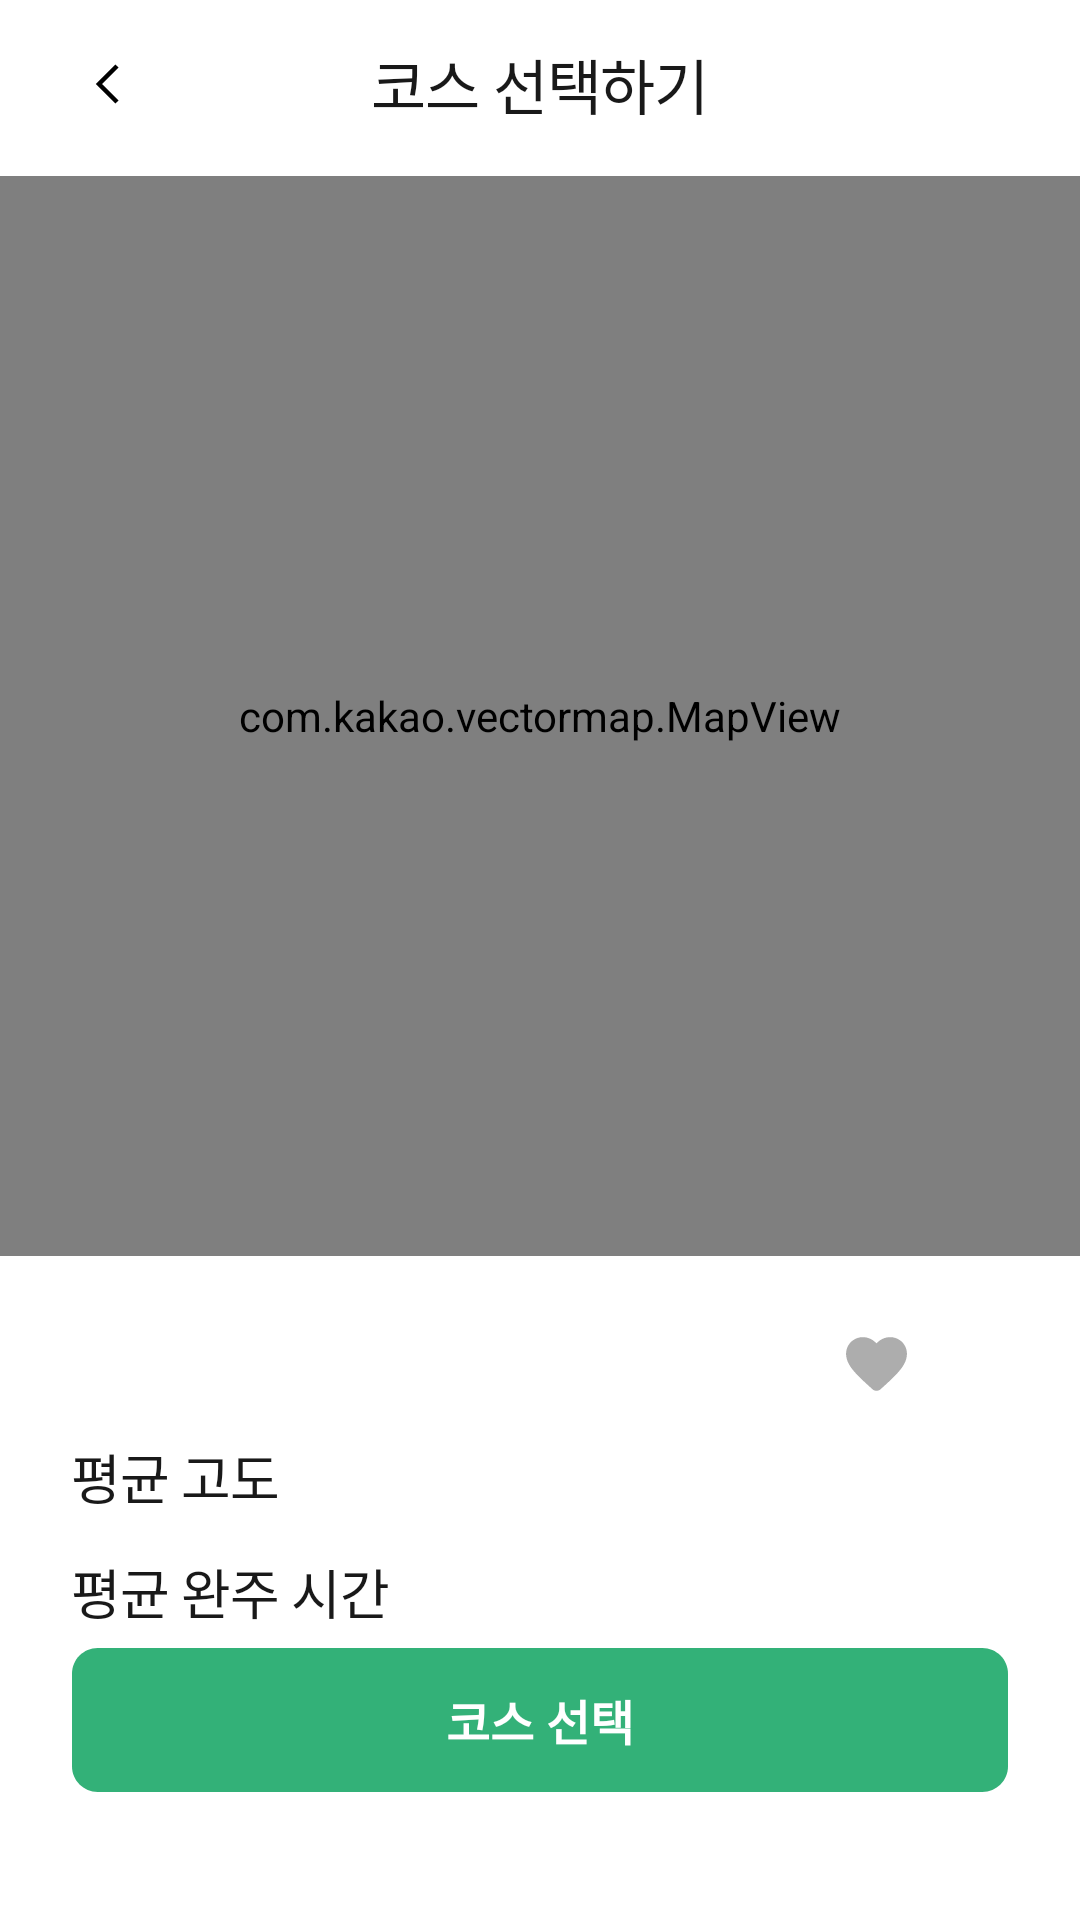

Where to tap for icons on this 1080px×1920px app screen, as (x=x, y=y):
all arrow: (x=107, y=84)
course like: (x=876, y=1364)
